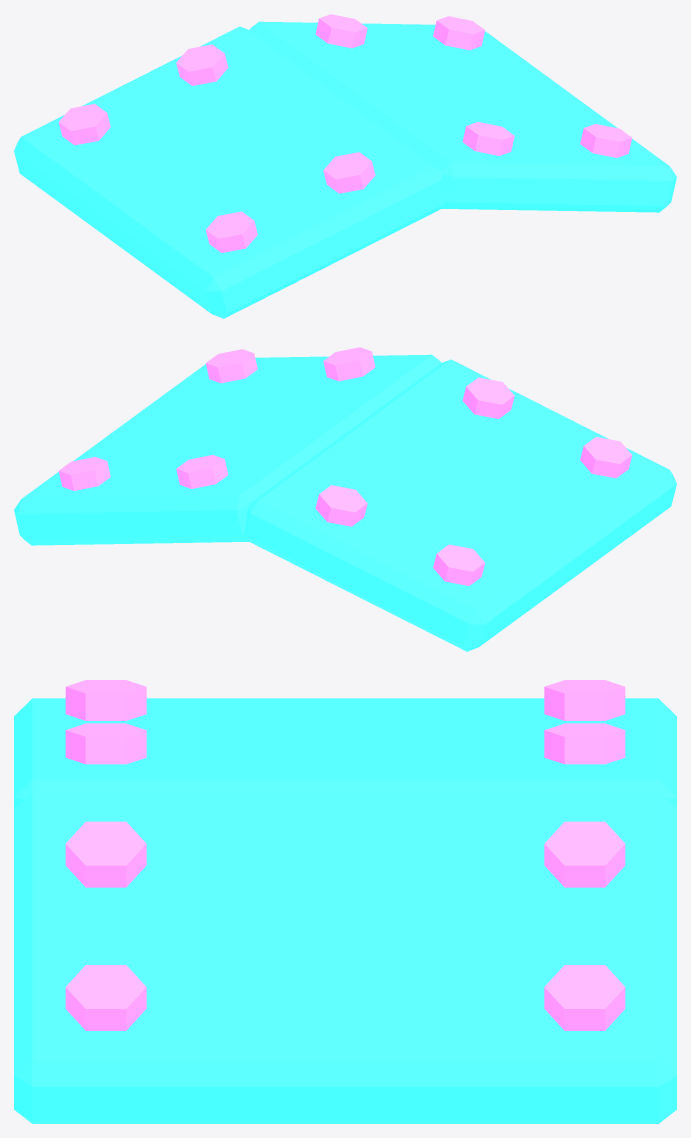
File: item_plate_neon.fbx
3 views of the same model, one above another, from view 1: azimuth 30°, elevation 25°; view 2: azimuth 150°, elevation 25°; view 3: azimuth 270°, elevation 25° (orthographic). The views are drawn at different scales.
Parts seen in each view (by area): view 1: item_plate_neon; view 2: item_plate_neon; view 3: item_plate_neon.
Boxes of the visible parts, x1,y1,x2,y2 form: item_plate_neon: (14, 14, 676, 318); item_plate_neon: (14, 347, 676, 651); item_plate_neon: (14, 680, 676, 1123).
Size of the model in its own units: 2.4 by 0.5144 by 1.8.
